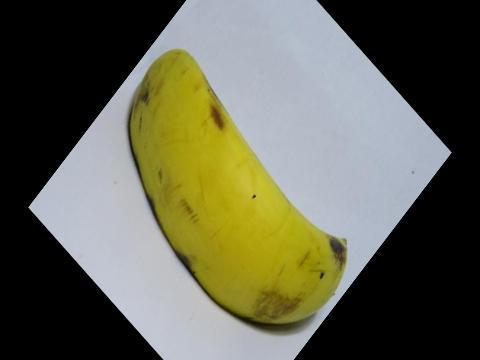freshripe: (114, 38, 358, 335)
